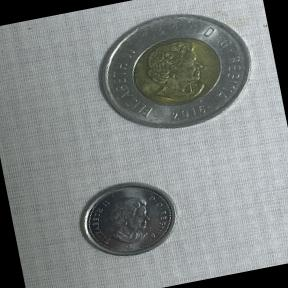Canada-10cent-B: (69, 168, 189, 268)
Canada-2Dollar-B: (81, 0, 265, 147)
